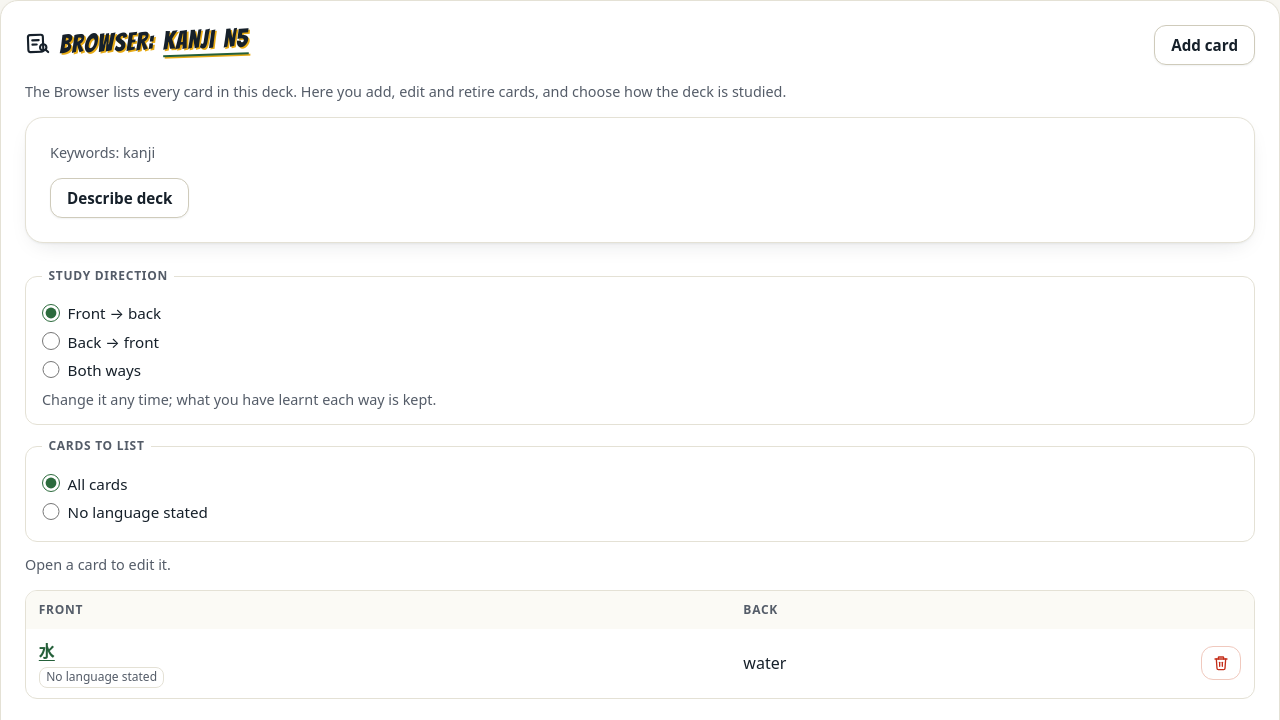
BrowserScreen deck editing › shows only what a deck states, and cancels describing
Check: the element named "About this deck" reads "Keywords: kanji Describe deck", box [25,117,1255,243]
Click the button "Describe deck" at (120, 198), box [50,178,190,218]
(page scrolled)
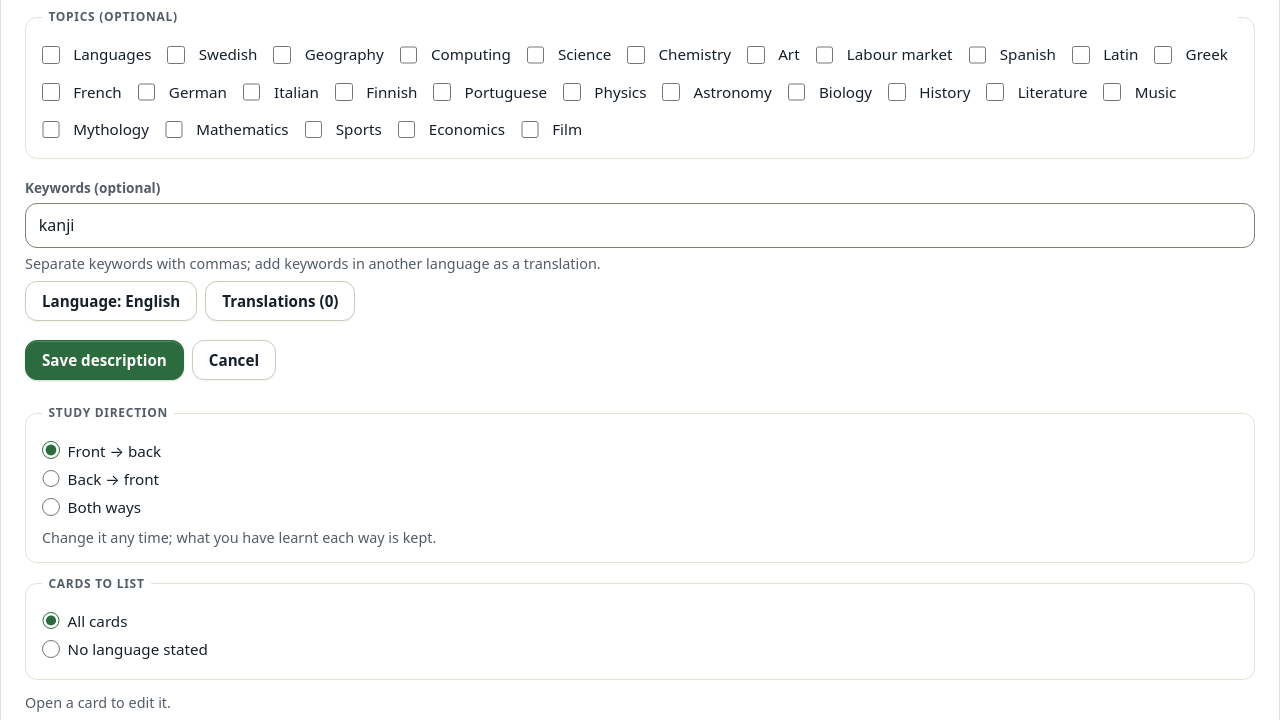
Click the button with aria-label "Cancel describing" at (234, 360), box [192,340,276,380]
(page scrolled)
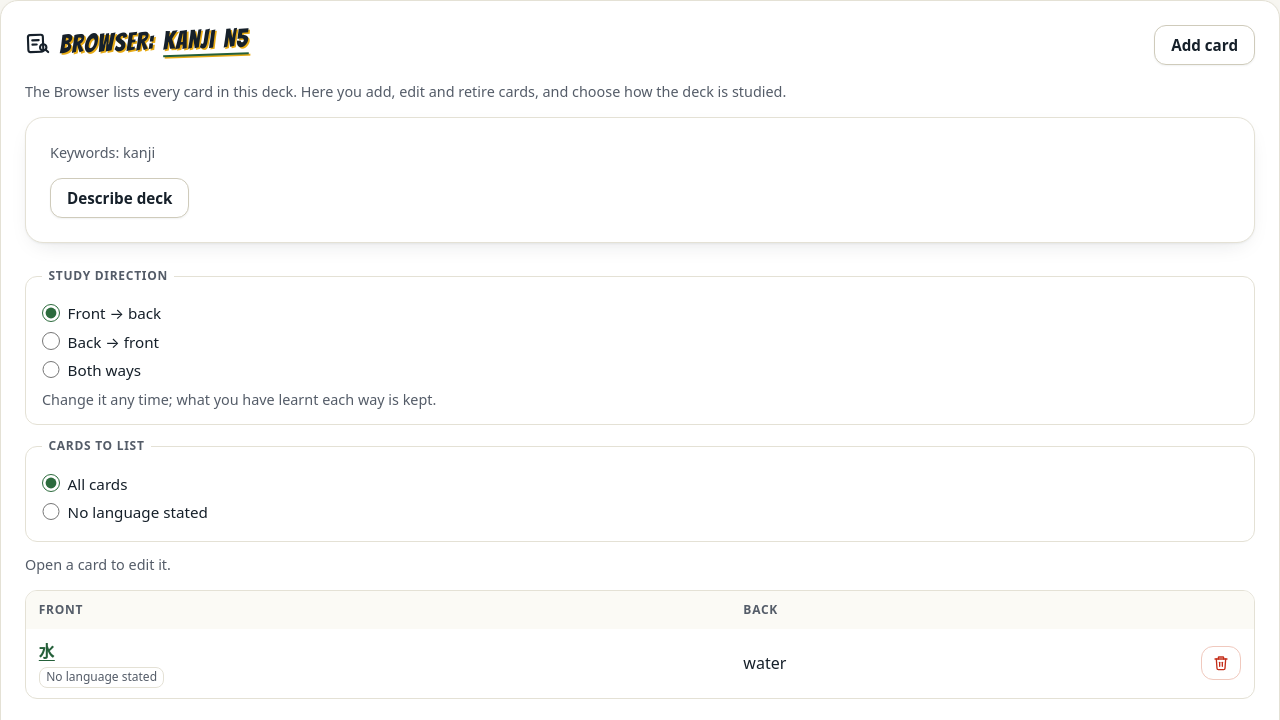
Check: the button labelled "description" is gone
